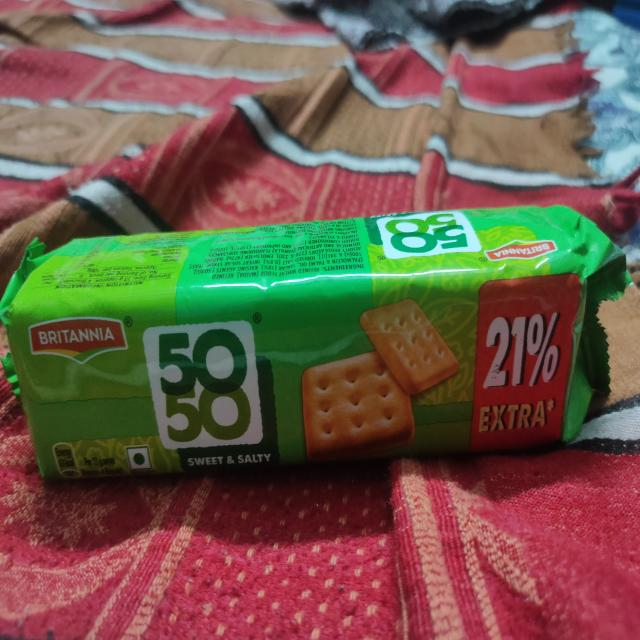50 50 biscuit: (6, 197, 624, 466)
